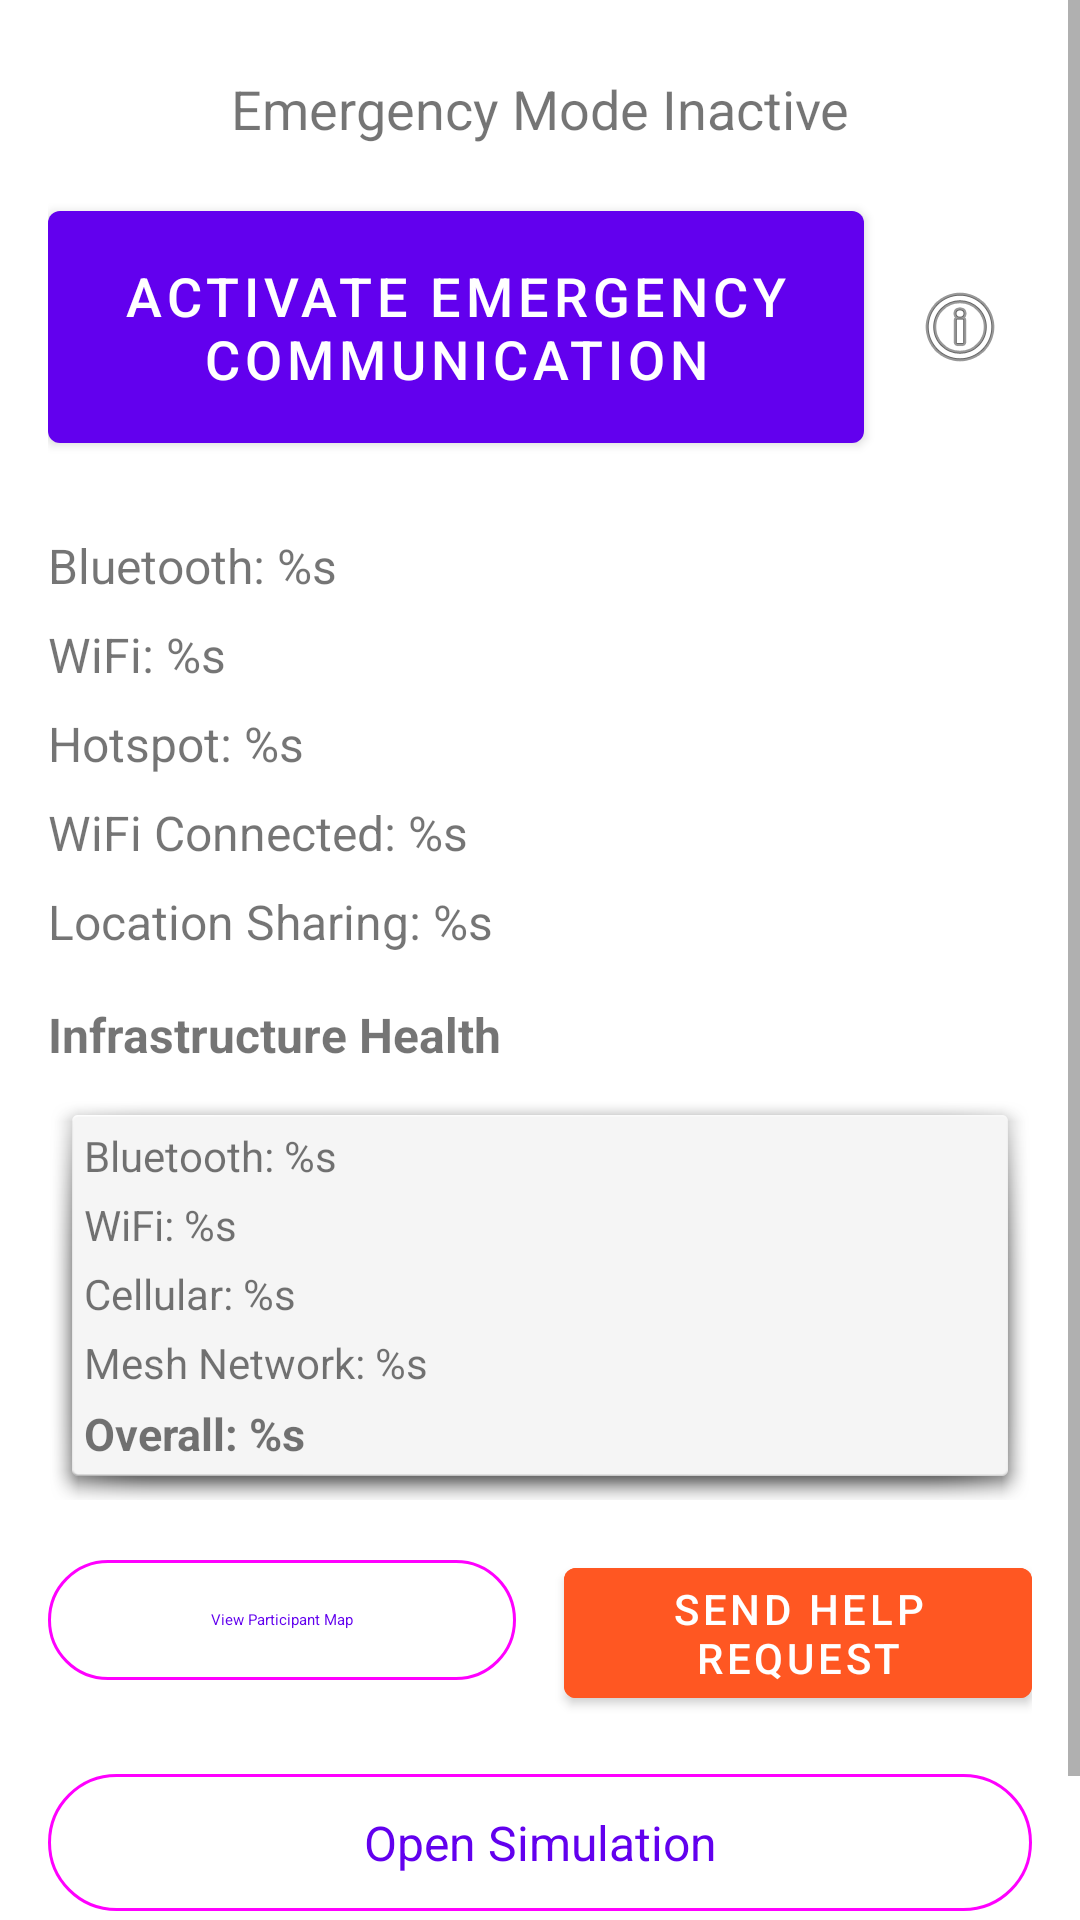

Screen size 1080×1920. Icon name, then its box in pixels as (x1, y1, x2, y2):
Emergency Mode Help: (925, 292, 995, 362)
